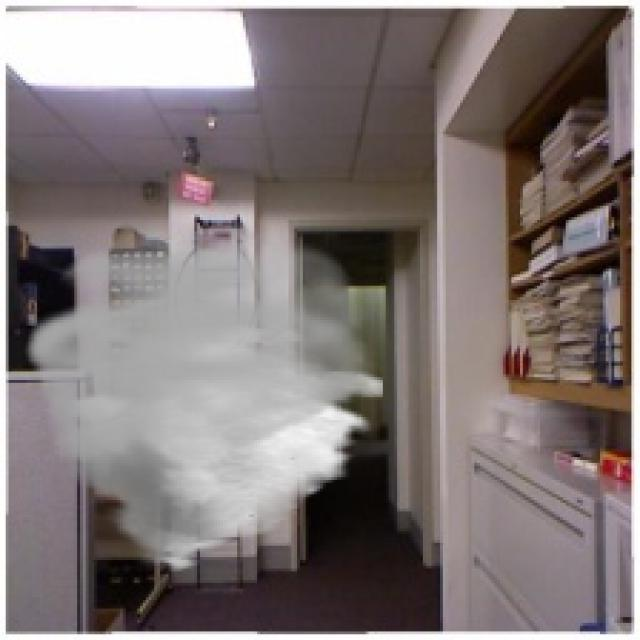Smoke: (20, 226, 383, 574)
